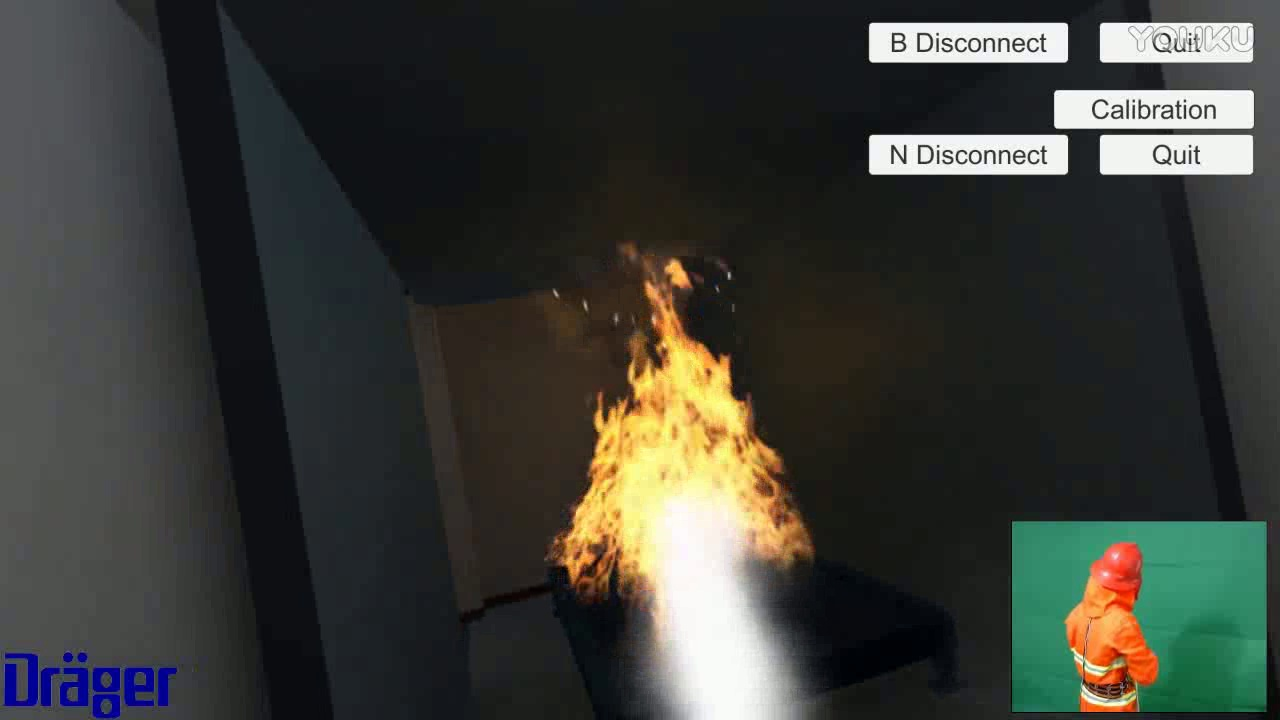fire: (539, 246, 835, 616)
